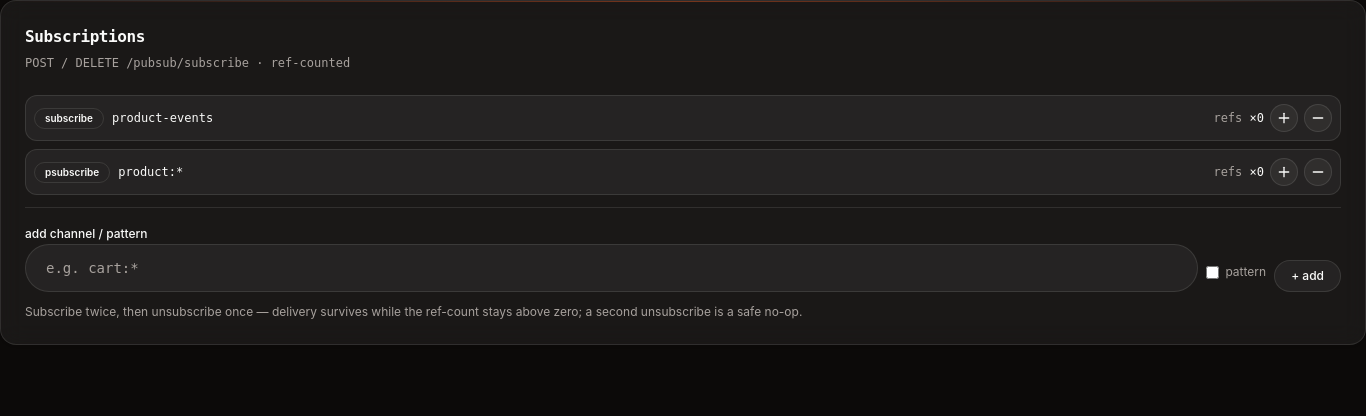
it: SubscriptionManager › allows the same channel as both an exact and a pattern subscription
# The checkbox stays unchecked, so this adds `product:*` as an EXACT row.
Type "product:*" into the field labelled "add channel / pattern" at (612, 268), box [25,244,1198,292]
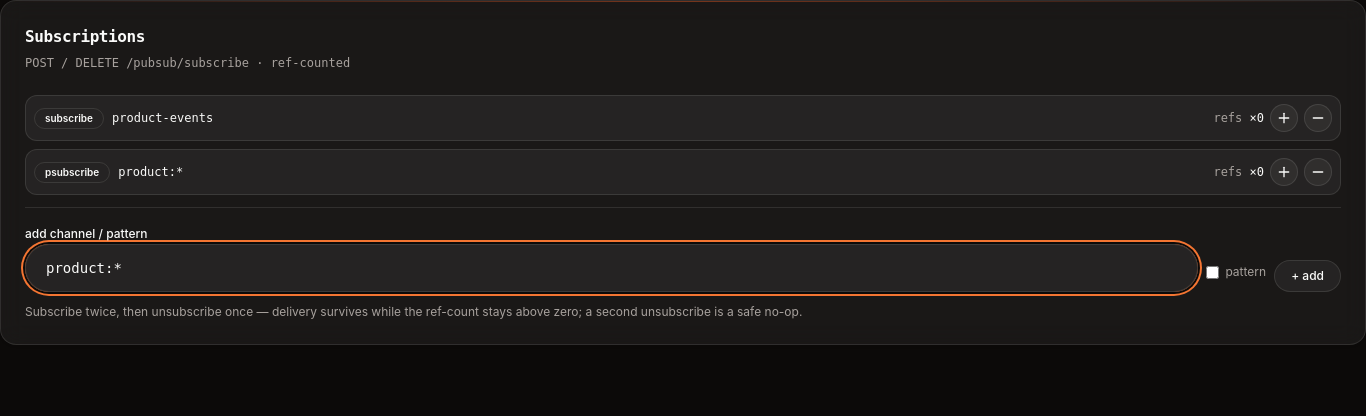
Click the button "+ add" at (1308, 276), box [1274,260,1341,292]
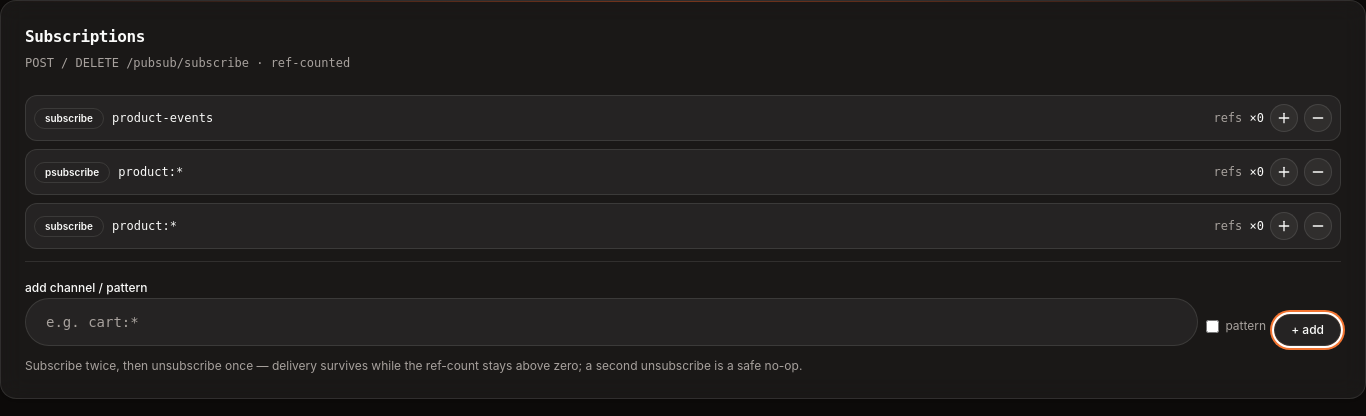
Expected: the text "product:*" is shown 2 times, [118,164,183,180]; [112,218,177,234]
